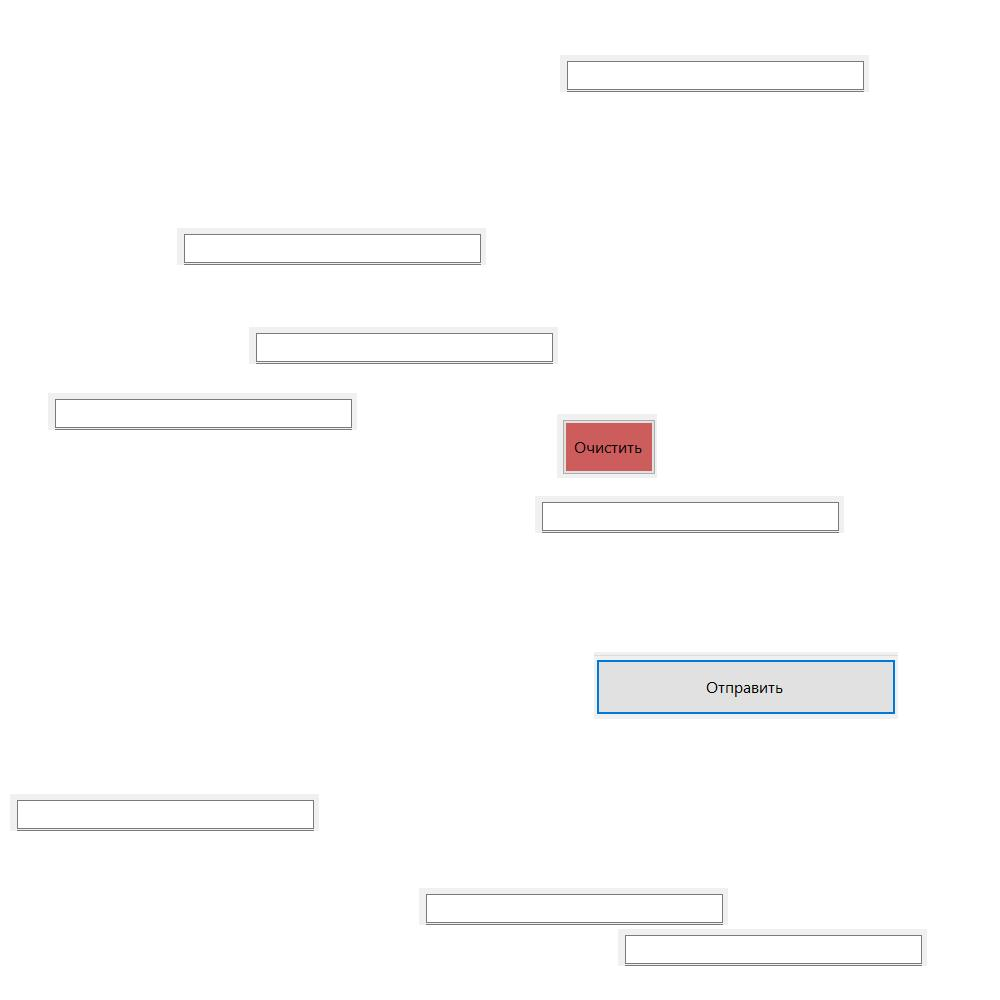Button: (594, 652, 898, 719), (557, 414, 657, 478)
EditText-: (560, 55, 869, 92), (419, 888, 728, 925), (177, 228, 486, 265), (48, 393, 357, 430), (249, 327, 558, 364), (618, 929, 927, 966), (10, 794, 319, 831), (535, 496, 844, 533)
